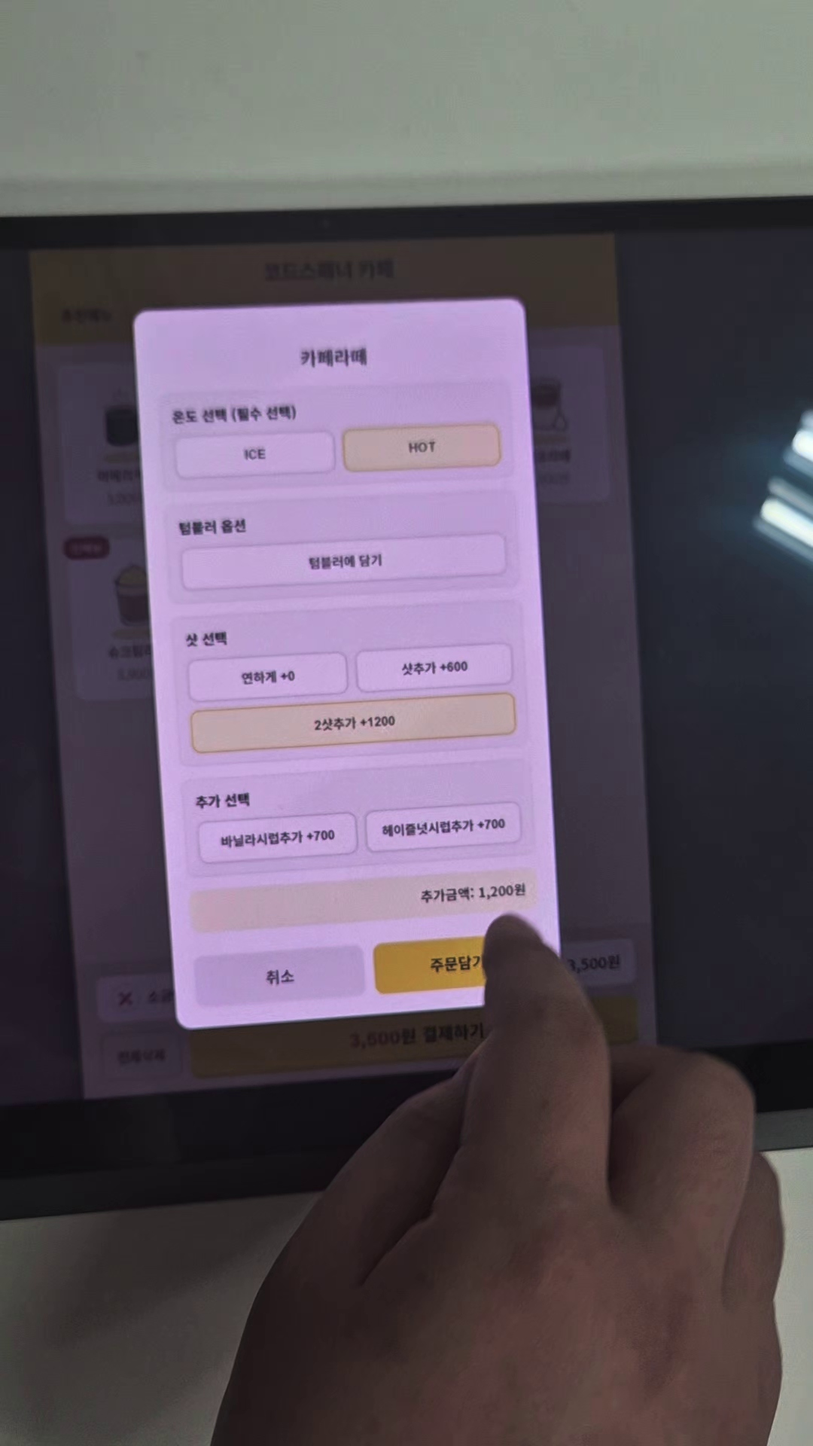action_button: (195, 945, 366, 1005), (375, 935, 531, 993)
menu_name: (298, 347, 369, 367)
option_button: (180, 532, 505, 590), (195, 694, 516, 752), (195, 812, 358, 864), (358, 641, 512, 691), (175, 430, 333, 478), (188, 652, 344, 700), (343, 423, 499, 470), (365, 804, 522, 850)
popup_modal: (135, 299, 564, 1029)
